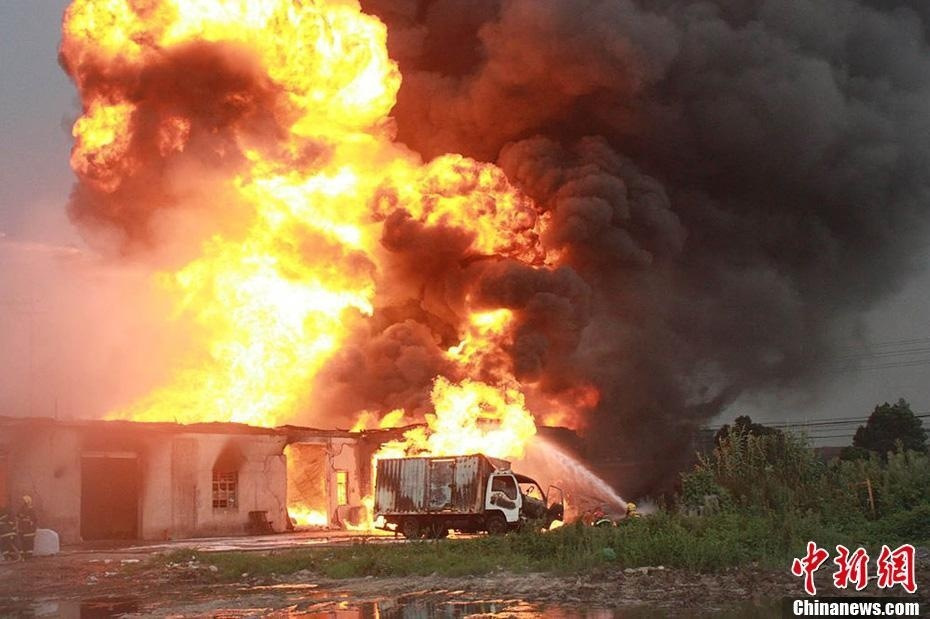fire: (78, 0, 607, 470)
